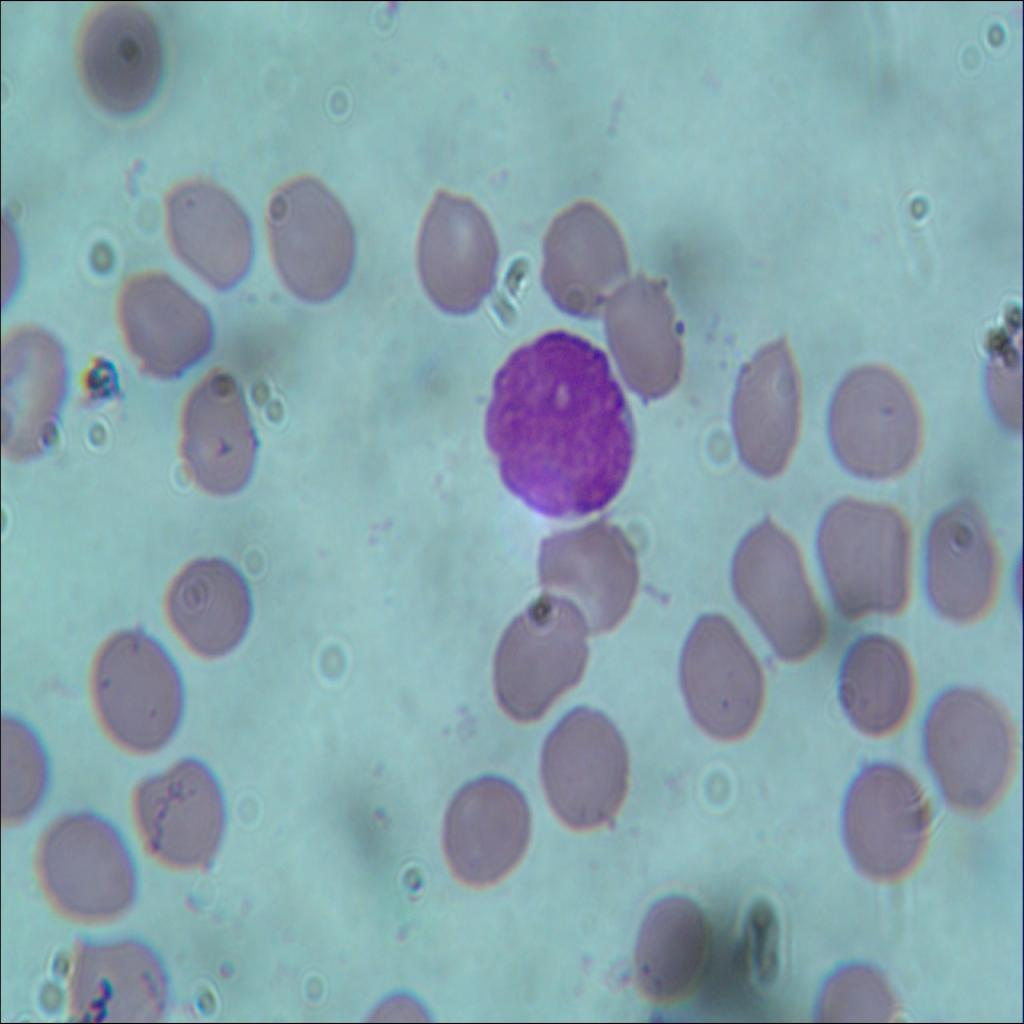Eritrosit: (728, 518, 833, 676), (256, 178, 366, 314), (675, 594, 769, 752), (170, 360, 268, 511), (814, 488, 918, 630), (82, 625, 191, 758), (410, 184, 504, 330), (538, 516, 643, 646), (534, 698, 628, 842), (818, 351, 926, 475), (836, 748, 930, 890), (128, 748, 226, 884), (538, 192, 638, 324), (34, 808, 146, 922), (928, 675, 1023, 809), (726, 335, 810, 484), (438, 767, 531, 900), (110, 266, 214, 384), (158, 547, 256, 671), (831, 614, 918, 748), (601, 280, 691, 408), (73, 0, 166, 122), (163, 177, 256, 296), (496, 601, 588, 721), (0, 321, 71, 474), (618, 895, 716, 1004), (924, 487, 1001, 621), (64, 935, 169, 1023)
Limfoblast: (471, 334, 644, 512)
Platelet: (670, 314, 688, 344)
